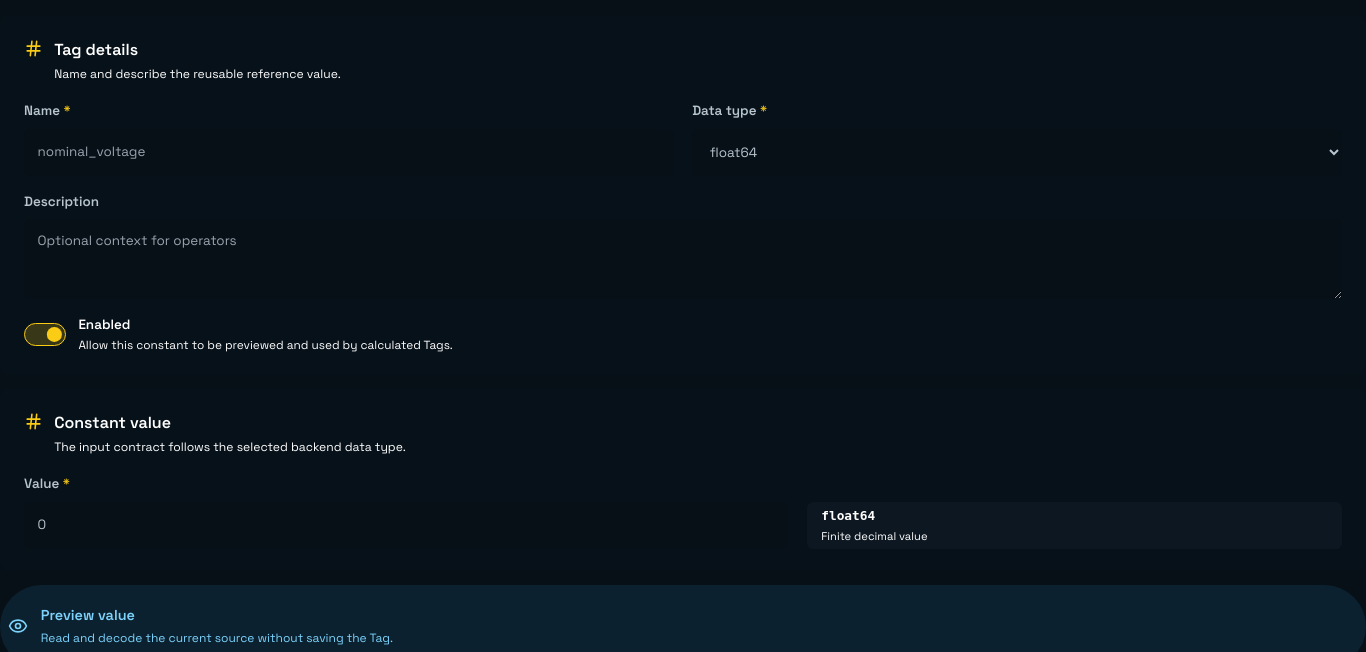
ConstantTagForm › previews boolean and numeric values without requiring a Tag name
Replace the text in the number field labelled "Value *" with "230.5". click: (406, 525)
box: [24,502,788,549]
(page scrolled)
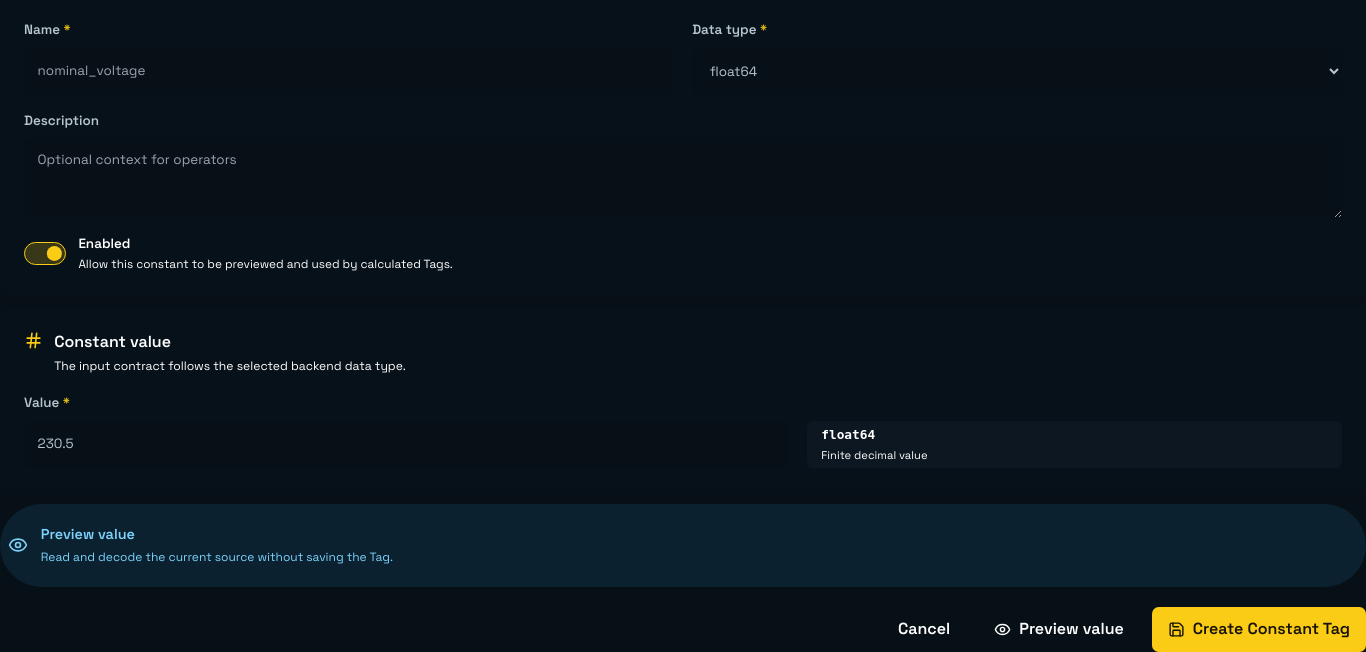
Click the button "Preview value". click: click(1059, 629)
box: [978,607,1140,651]
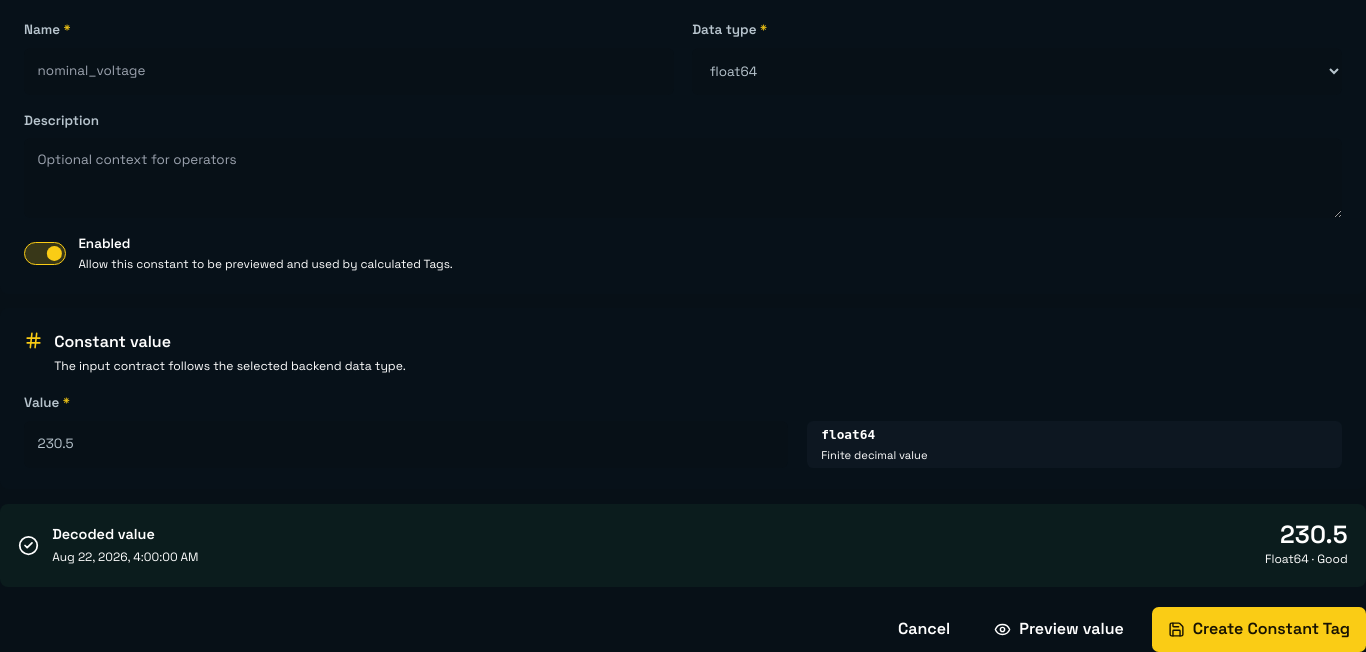
Now the text "230.5" is shown, box [1280,519,1348,550]
Select "bool" in the dropdown labelled "Data type *". click: (1017, 71)
box: [692,48,1342,95]
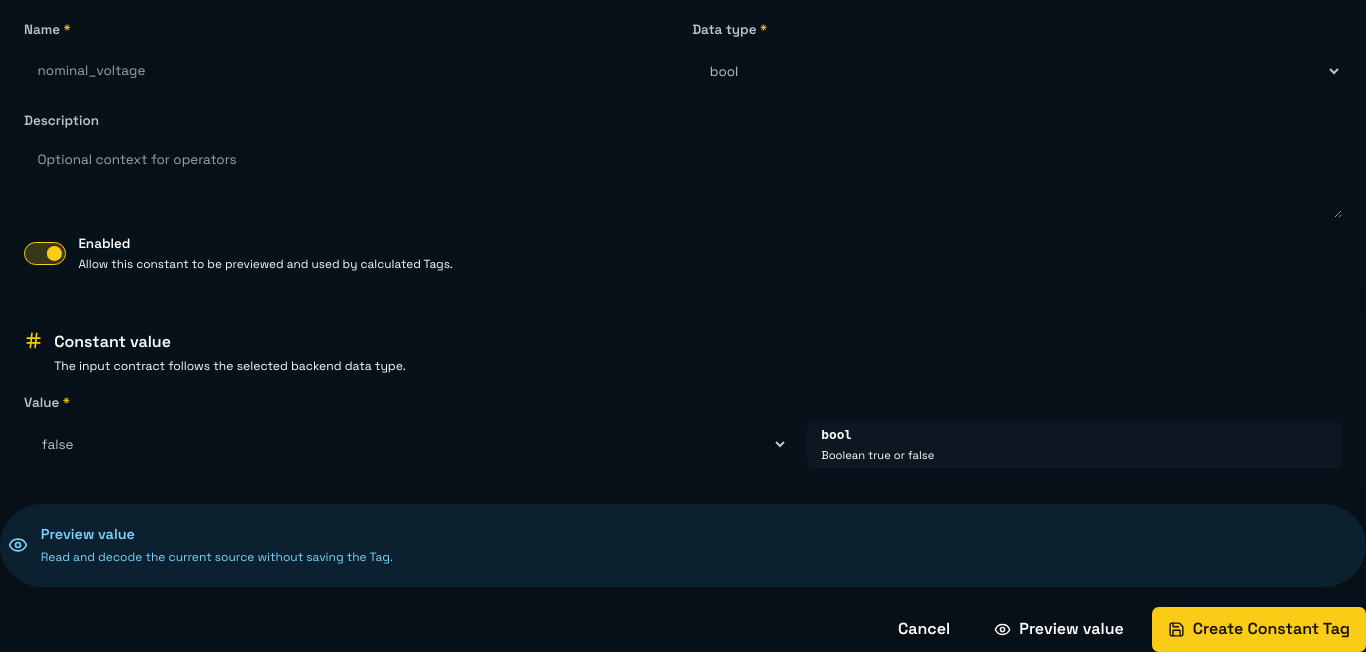
Select "true" in the dropdown labelled "Value *". click: (406, 444)
box: [24,421,788,468]
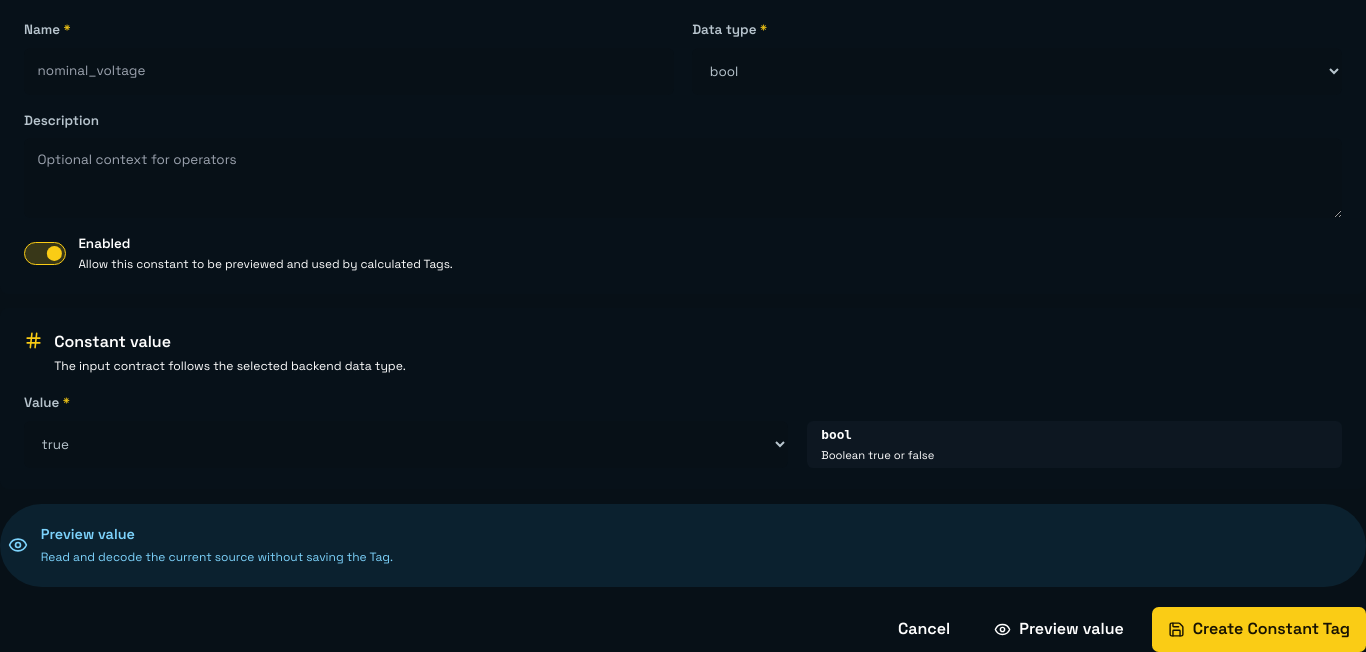
Click the button "Preview value". click: click(1059, 629)
box: [978,607,1140,651]
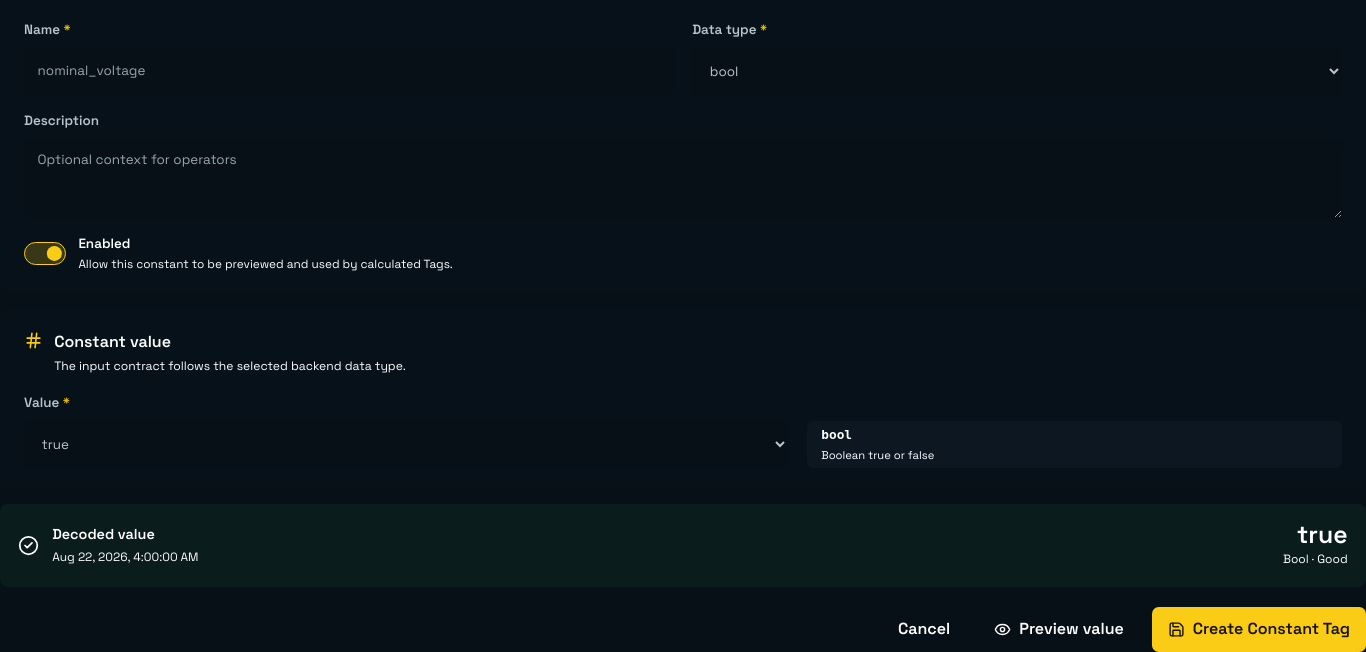
Now the element named "Tag preview result" shows "true", box [1297,519,1348,550]
Now the element named "Tag preview result" shows "bool · good", box [0,504,1365,587]
